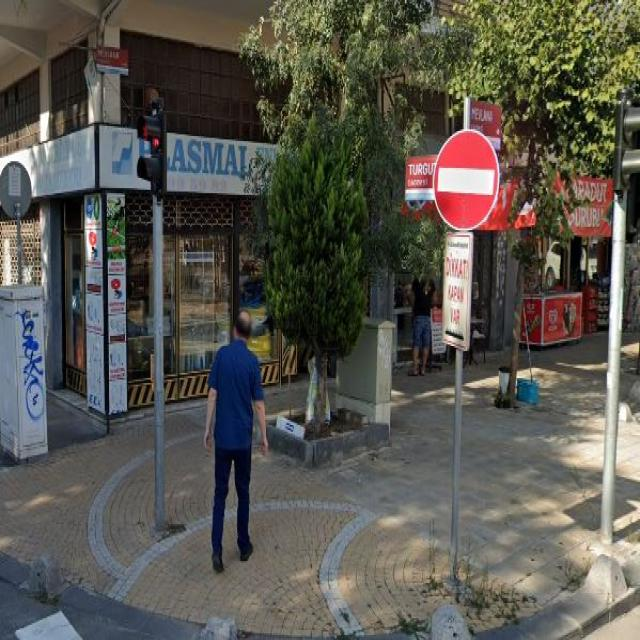girisyok: (434, 129, 497, 230)
